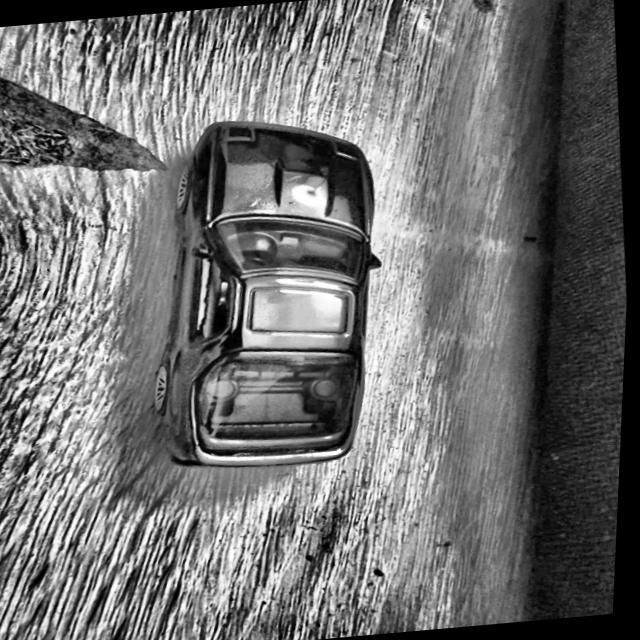car: (131, 108, 406, 476)
